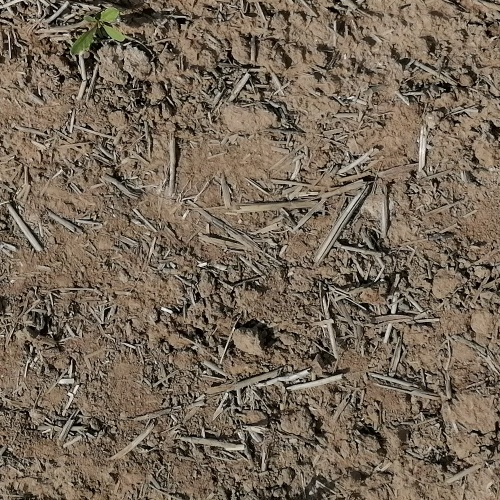beet: (71, 7, 126, 56)
